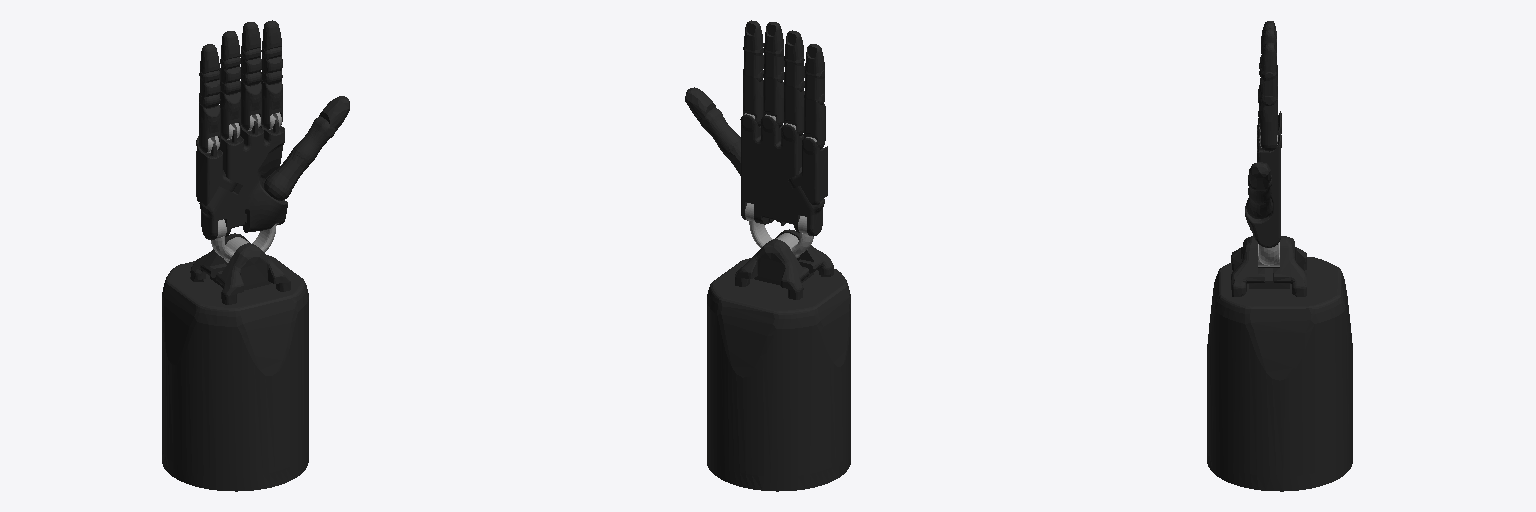
--- Facts derived from the render (not from the file) ---
Views: 3 orthographic renders of the robot side by side, from view 1: azimuth 30°, elevation 25°; view 2: azimuth 150°, elevation 25°; view 3: azimuth 270°, elevation 25°.
Robot: shadowhand_motor — 31 links, 30 joints (24 revolute, 6 fixed); root link world; default pose: all joints at 0.
Visible links, largest first — view 1: rh_forearm, rh_palm, rh_lfmetacarpal, rh_thproximal, rh_wrist, rh_thmiddle, rh_lfproximal, rh_mfproximal, rh_ffproximal, rh_rfproximal, rh_mfmiddle, rh_lfmiddle (+3 smaller); view 2: rh_forearm, rh_palm, rh_lfmetacarpal, rh_wrist, rh_thmiddle, rh_lfproximal, rh_mfproximal, rh_rfproximal, rh_ffproximal, rh_thdistal, rh_mfmiddle, rh_rfmiddle (+2 smaller); view 3: rh_forearm, rh_palm, rh_ffproximal, rh_ffmiddle.
Boxes of the visible links, bbox=[...] form: rh_forearm: bbox=[162, 233, 308, 491]; rh_palm: bbox=[199, 120, 287, 240]; rh_lfmetacarpal: bbox=[196, 136, 237, 205]; rh_thproximal: bbox=[264, 149, 308, 200]; rh_wrist: bbox=[211, 219, 278, 262]; rh_thmiddle: bbox=[293, 116, 335, 164]; rh_lfproximal: bbox=[199, 103, 220, 152]; rh_mfproximal: bbox=[240, 81, 261, 130]; rh_ffproximal: bbox=[261, 81, 282, 129]; rh_rfproximal: bbox=[220, 92, 240, 139]; rh_mfmiddle: bbox=[241, 48, 261, 85]; rh_lfmiddle: bbox=[199, 70, 220, 108]; rh_forearm: bbox=[707, 229, 850, 491]; rh_palm: bbox=[740, 114, 824, 236]; rh_lfmetacarpal: bbox=[788, 138, 827, 204]; rh_wrist: bbox=[745, 203, 813, 257]; rh_thmiddle: bbox=[700, 108, 740, 154]; rh_lfproximal: bbox=[804, 99, 825, 149]; rh_mfproximal: bbox=[763, 77, 783, 127]; rh_rfproximal: bbox=[784, 85, 804, 135]; rh_ffproximal: bbox=[743, 75, 762, 126]; rh_thdistal: bbox=[685, 87, 715, 121]; rh_mfmiddle: bbox=[763, 48, 784, 82]; rh_rfmiddle: bbox=[784, 56, 804, 91]; rh_forearm: bbox=[1207, 236, 1352, 491]; rh_palm: bbox=[1245, 113, 1281, 247]; rh_ffproximal: bbox=[1258, 99, 1277, 151]; rh_ffmiddle: bbox=[1259, 70, 1277, 105].
Bounding box of the posed robot: 0.1784 × 0.1351 × 0.4454 m (x, y, z).
23 mesh visuals loaded from 11 distinct referenced files (11 Collada DAE).

URDF robot description (shadowhand_motor):
<?xml version="1.0" ?>
<!-- =================================================================================== -->
<!-- |    This document was autogenerated by xacro from [local-path]/DUC/RobotArm/src/my_arm/models/shadow_hand/robots/shadowhand_motor.urdf.xacro | -->
<!-- |    EDITING THIS FILE BY HAND IS NOT RECOMMENDED                                 | -->
<!-- =================================================================================== -->
<robot name="shadowhand_motor" xmlns:body="http://playerstage.sourceforge.net/gazebo/xmlschema/#body" xmlns:controller="http://playerstage.sourceforge.net/gazebo/xmlschema/#controller" xmlns:geom="http://playerstage.sourceforge.net/gazebo/xmlschema/#geom" xmlns:interface="http://playerstage.sourceforge.net/gazebo/xmlschema/#interface" xmlns:joint="http://playerstage.sourceforge.net/gazebo/xmlschema/#slider" xmlns:sensor="http://playerstage.sourceforge.net/gazebo/xmlschema/#sensor" xmlns:xacro="http://www.ros.org/wiki/xacro">
    <material name="Blue">
        <color rgba="0.0 0.0 0.8 1.0"/>
    </material>
    <material name="Green">
        <color rgba="0.0 0.8 0.0 1.0"/>
    </material>
    <material name="BiotacGreen">
        <color rgba="0.31 0.85 0.42 1.0"/>
    </material>
    <material name="Grey">
        <color rgba="0.2 0.2 0.2 1.0"/>
    </material>
    <material name="LightGrey">
        <color rgba="0.6 0.6 0.6 1.0"/>
    </material>
    <material name="Red">
        <color rgba="0.8 0.0 0.0 1.0"/>
    </material>
    <material name="White">
        <color rgba="1.0 1.0 1.0 1.0"/>
    </material>
    <gazebo>
        <!-- !NOTEE : MODEL PLUGIN TYPE ONLY -->
        <plugin filename="libgazebo_ros_control.so" name="gazebo_ros_control">
            <robotSimType>sr_gazebo_sim/SrGazeboHWSim</robotSimType>
        </plugin>
        <plugin filename="libgazeboRobotArmController.so" name="gazebo_my_arm_control"> <!-- devel/lib folder -->
            <robotNamespace/>
            <robotSimType>my_arm_gazebo_sim/DefaultRobotHWSim</robotSimType>
            <jointName>rh_world_joint,
                rh_WRJ2,
                rh_WRJ1,

                rh_THJ5,
                rh_THJ4,
                rh_THJ3,
                rh_THJ2,
                rh_THJ1,
                rh_THtip,

                rh_FFJ4,
                rh_FFJ3,
                rh_FFJ2,
                rh_FFJ1,

                rh_MFJ4,
                rh_MFJ3,
                rh_MFJ2,
                rh_MFJ1,

                rh_RFJ4,
                rh_RFJ3,
                rh_RFJ2,
                rh_RFJ1,

                rh_LFJ5,
                rh_LFJ4,
                rh_LFJ3,
                rh_LFJ2,
                rh_LFJ1
            </jointName>
            <updateRate>100.0</updateRate>
            <alwaysOn>true</alwaysOn>
        </plugin>
    </gazebo>
    <!-- hand with cylindrical base drifts in gazebo, attach it to the world -->
    <link name="world"/>
    <joint name="rh_world_joint" type="fixed">
        <parent link="world"/>
        <child link="rh_forearm"/>
        <origin rpy="0.0 0.0 0.0" xyz="0.0 0.0 0.0"/>
    </joint>
    <link name="rh_forearm">
        <inertial>
            <origin rpy="0 0 0" xyz="0 0 0.09"/>
            <mass value="3.0"/>
            <inertia ixx="0.0138" ixy="0.0" ixz="0.0" iyy="0.0138" iyz="0.0" izz="0.00744"/>
        </inertial>
        <visual>
            <origin rpy="0 0 0" xyz="0 0 0"/>
            <geometry name="rh_forearm_visual">
                <mesh filename="package://meshes/shadow_hand/hand/forearm.dae" scale="0.001 0.001 0.001"/>
            </geometry>
            <material name="Grey"/>
        </visual>
        <collision>
            <origin rpy="0 0 0" xyz="0 0 0.092"/>
            <geometry name="rh_forearm_collision">
                <cylinder length="0.184" radius="0.07"/>
            </geometry>
        </collision>
        <!-- wrist mount -->
        <collision>
            <origin rpy="0 0.78 0" xyz="0 -0.01 0.181"/>
            <geometry>
                <box size="0.07 0.07 0.07"/>
            </geometry>
        </collision>
    </link>
    <gazebo reference="rh_forearm">
        <selfCollide>false</selfCollide>
    </gazebo>
    <link name="rh_wrist">
        <inertial>
            <origin rpy="0 0 0" xyz="0 0 0.029"/>
            <mass value="0.1"/>
            <inertia ixx="0.000035" ixy="0.0" ixz="0.0" iyy="0.000064" iyz="0.0" izz="0.0000438"/>
        </inertial>
        <visual>
            <origin rpy="0 0 0" xyz="0 0 0"/>
            <geometry name="rh_wrist_visual">
                <mesh filename="package://meshes/shadow_hand/hand/wrist.dae" scale="0.001 0.001 0.001"/>
            </geometry>
            <material name="LightGrey"/>
        </visual>
        <collision>
            <origin rpy="1.5708 1.5708 0" xyz="0 0 0"/>
            <geometry name="rh_wrist_collision_geom">
                <cylinder length="0.030" radius="0.0135"/>
            </geometry>
        </collision>
        <collision>
            <origin rpy="0 1.5708 0" xyz="-0.026 0 0.034"/>
            <geometry>
                <cylinder length="0.010" radius="0.011"/>
            </geometry>
        </collision>
        <collision>
            <origin rpy="0 1.5708 0" xyz="0.031 0 0.034"/>
            <geometry>
                <cylinder length="0.010" radius="0.011"/>
            </geometry>
        </collision>
        <collision>
            <origin rpy="0 0.7854 0" xyz="-0.021 0 0.011"/>
            <geometry>
                <box size="0.027 0.018 0.010"/>
            </geometry>
        </collision>
        <collision>
            <origin rpy="0 -0.7854 0" xyz="0.026 0 0.010"/>
            <geometry>
                <box size="0.027 0.018 0.010"/>
            </geometry>
        </collision>
    </link>
    <gazebo reference="rh_wrist">
        <material>Gazebo/White</material>
        <selfCollide>false</selfCollide>
    </gazebo>
    <joint name="rh_WRJ2" type="revolute">
        <parent link="rh_forearm"/>
        <child link="rh_wrist"/>
        <origin rpy="0 0 0" xyz="0 -0.010 0.213"/>
        <axis xyz="0 1.0 0"/>
        <limit effort="10" lower="-0.523598775598" upper="0.174532925199" velocity="2.0"/>
        <dynamics damping="0.1"/>
    </joint>
    <gazebo reference="rh_WRJ2">
        <provideFeedback>1</provideFeedback>
        <implicitSpringDamper>1</implicitSpringDamper>
    </gazebo>
    <transmission name="rh_wrist_transmission">
        <type>sr_mechanism_model/SimpleTransmission</type>
        <actuator name="rh_WRJ2">
            <mechanicalReduction>1</mechanicalReduction>
        </actuator>
        <joint name="rh_WRJ2">
            <hardwareInterface>EffortJointInterface</hardwareInterface>
            <hardwareInterface>PositionJointInterface</hardwareInterface>
        </joint>
    </transmission>
    <link name="rh_palm">
        <inertial>
            <origin rpy="0 0 0" xyz="0 0 0.035"/>
            <mass value="0.3"/>
            <inertia ixx="0.0003581" ixy="0.0" ixz="0.0" iyy="0.0005287" iyz="0.0" izz="0.000191"/>
        </inertial>
        <visual>
            <origin rpy="0 0 0" xyz="0 0 0"/>
            <geometry name="rh_palm_visual">
                <mesh filename="package://meshes/shadow_hand/hand/palm.dae" scale="0.001 0.001 0.001"/>
            </geometry>
            <material name="Grey"/>
        </visual>
        <collision>
            <origin rpy="0 0 0" xyz="0.011 0.0085 0.038"/>
            <geometry name="rh_palm_collision_geom">
                <box size="0.062 0.007 0.098"/>
            </geometry>
        </collision>
        <collision>
            <origin rpy="0 0 0" xyz="-0.002 -0.0035 0.038"/>
            <geometry>
                <box size="0.036 0.017 0.098"/>
            </geometry>
        </collision>
        <!-- palm complement below first finger -->
        <collision>
            <origin rpy="0 0 0" xyz="0.029 -0.0035 0.082"/>
            <geometry>
                <box size="0.026 0.017 0.010"/>
            </geometry>
        </collision>
        <collision>
            <origin rpy="0.2 0 0.25" xyz="0.0265 -0.001 0.070"/>
            <geometry>
                <box size="0.026 0.014 0.018"/>
            </geometry>
        </collision>
        <!-- thumb pulp side -->
        <collision>
            <origin rpy="0 0 0" xyz="0.0315 -0.0085 0.001"/>
            <geometry>
                <box size="0.021 0.027 0.024"/>
            </geometry>
        </collision>
        <!-- thumb pulp central -->
        <collision>
            <origin rpy="0 0 -0.48" xyz="0.0125 -0.015 0.009"/>
            <geometry>
                <box size="0.022 0.005 0.040"/>
            </geometry>
        </collision>
        <!-- above middle finger-->
        <collision>
            <origin rpy="0 0 0" xyz="0.011 0 0.089"/>
            <geometry>
                <box size="0.018 0.024 0.004"/>
            </geometry>
        </collision>
        <!-- metacarpal side-->
        <collision>
            <origin rpy="0 0 0" xyz="-0.03 0 0.009"/>
            <geometry>
                <box size="0.020 0.024 0.040"/>
            </geometry>
        </collision>
    </link>
    <joint name="rh_WRJ1" type="revolute">
        <parent link="rh_wrist"/>
        <child link="rh_palm"/>
        <origin rpy="0 0 0" xyz="0 0 0.034"/>
        <axis xyz="1 0 0"/>
        <limit effort="30" lower="-0.698131700798" upper="0.488692190558" velocity="2.0"/>
        <dynamics damping="0.1"/>
    </joint>
    <gazebo reference="rh_WRJ1">
        <provideFeedback>1</provideFeedback>
        <implicitSpringDamper>1</implicitSpringDamper>
    </gazebo>
    <transmission name="rh_palm_transmission">
        <type>sr_mechanism_model/SimpleTransmission</type>
        <actuator name="rh_WRJ1">
            <mechanicalReduction>1</mechanicalReduction>
        </actuator>
        <joint name="rh_WRJ1">
            <hardwareInterface>EffortJointInterface</hardwareInterface>
            <hardwareInterface>PositionJointInterface</hardwareInterface>
        </joint>
    </transmission>
    <!-- prefix can be anything but usually is "r_" or  "l_" for right and left hands distinction -->
    <gazebo reference="rh_palm">
        <sensor name="rh_palm_contact" type="contact">
            <always_on>1</always_on>
            <update_rate>1000.0</update_rate>
            <contact>
                <collision>rh_palm_collision</collision>
                <topic>rh_palm_collision</topic>
            </contact>
            <plugin filename="libgazebo_ros_bumper.so" name="rh_palm_gazebo_ros_bumper_controller">
                <alwaysOn>true</alwaysOn>
                <frameName>rh_palm</frameName>
                <updateRate>100.0</updateRate>
                <bumperTopicName>contacts/rh_palm</bumperTopicName>
            </plugin>
        </sensor>
    </gazebo>
    <link name="rh_ffknuckle">
        <inertial>
            <origin rpy="0 0 0" xyz="0 0 0"/>
            <mass value="0.008"/>
            <inertia ixx="0.00000026" ixy="0.0" ixz="0.0" iyy="0.00000026" iyz="0.0" izz="0.00000032"/>
        </inertial>
        <visual>
            <origin rpy="0 0 0" xyz="0 0 0.0005"/>
            <geometry name="rh_ffknuckle_visual">
                <mesh filename="package://meshes/shadow_hand/hand/knuckle.dae" scale="0.001 0.001 0.001"/>
            </geometry>
            <material name="LightGrey"/>
        </visual>
        <collision>
            <origin rpy="0 1.5708 0" xyz="0 0 0"/>
            <geometry name="rh_ffknuckle_collision_geom">
                <cylinder length="0.014" radius="0.007"/>
            </geometry>
        </collision>
    </link>
    <joint name="rh_FFJ4" type="revolute">
        <parent link="rh_palm"/>
        <child link="rh_ffknuckle"/>
        <!--<origin xyz="0.033 0 0.095" rpy="0 0 0" />-->
        <origin rpy="0 0 0" xyz="0.033 0 0.095"/>
        <axis xyz="0 -1.0 0"/>
        <limit effort="2" lower="-0.349065850399" upper="0.349065850399" velocity="2.0"/>
        <dynamics damping="0.1"/>
    </joint>
    <gazebo reference="rh_FFJ4">
        <provideFeedback>1</provideFeedback>
        <implicitSpringDamper>1</implicitSpringDamper>
    </gazebo>
    <transmission name="rh_ffknuckle_transmission">
        <type>sr_mechanism_model/SimpleTransmission</type>
        <actuator name="rh_FFJ4">
            <mechanicalReduction>1</mechanicalReduction>
        </actuator>
        <joint name="rh_FFJ4">
            <hardwareInterface>EffortJointInterface</hardwareInterface>
            <hardwareInterface>PositionJointInterface</hardwareInterface>
        </joint>
    </transmission>
    <!-- prefix can be anything but usually is "r_" or  "l_" for right and left hands distinction -->
    <gazebo reference="rh_ffknuckle">
        <sensor name="rh_ffknuckle_contact" type="contact">
            <always_on>1</always_on>
            <update_rate>1000.0</update_rate>
            <contact>
                <collision>rh_ffknuckle_collision</collision>
                <topic>rh_ffknuckle_collision</topic>
            </contact>
            <plugin filename="libgazebo_ros_bumper.so" name="rh_ffknuckle_gazebo_ros_bumper_controller">
                <alwaysOn>true</alwaysOn>
                <frameName>rh_ffknuckle</frameName>
                <updateRate>100.0</updateRate>
                <bumperTopicName>contacts/rh_ff/knuckle</bumperTopicName>
            </plugin>
        </sensor>
        <material>Gazebo/Grey</material>
    </gazebo>
    <link name="rh_ffproximal">
        <inertial>
            <mass value="0.030"/>
            <origin xyz="0 0 0.0225"/>
            <inertia ixx="0.0000098" ixy="0.0" ixz="0.0" iyy="0.00001" iyz="0.0" izz="0.0000018"/>
        </inertial>
        <visual>
            <origin rpy="0 0 0" xyz="0 0 0"/>
            <geometry name="rh_ffproximal_visual">
                <mesh filename="package://meshes/shadow_hand/hand/F3.dae" scale="0.001 0.001 0.001"/>
            </geometry>
            <material name="Grey"/>
        </visual>
        <collision>
            <origin rpy="0 0 0" xyz="0 0 0.025"/>
            <geometry name="rh_ffproximal_collision_geom">
                <cylinder length="0.040" radius="0.007"/>
            </geometry>
        </collision>
    </link>
    <joint name="rh_FFJ3" type="revolute">
        <parent link="rh_ffknuckle"/>
        <child link="rh_ffproximal"/>
        <origin rpy="0 0 0" xyz="0 0 0"/>
        <axis xyz="1 0 0"/>
        <limit effort="2" lower="0" upper="1.57079632679" velocity="2.0"/>
        <dynamics damping="0.1"/>
    </joint>
    <gazebo reference="rh_FFJ3">
        <provideFeedback>1</provideFeedback>
        <implicitSpringDamper>1</implicitSpringDamper>
    </gazebo>
    <transmission name="rh_ffproximal_transmission">
        <type>sr_mechanism_model/SimpleTransmission</type>
        <actuator name="rh_FFJ3">
            <mechanicalReduction>1</mechanicalReduction>
        </actuator>
        <joint name="rh_FFJ3">
            <hardwareInterface>EffortJointInterface</hardwareInterface>
            <hardwareInterface>PositionJointInterface</hardwareInterface>
        </joint>
    </transmission>
    <!-- prefix can be anything but usually is "r_" or  "l_" for right and left hands distinction -->
    <gazebo reference="rh_ffproximal">
        <sensor name="rh_ffproximal_contact" type="contact">
            <always_on>1</always_on>
            <update_rate>1000.0</update_rate>
            <contact>
                <collision>rh_ffproximal_collision</collision>
                <topic>rh_ffproximal_collision</topic>
            </contact>
            <plugin filename="libgazebo_ros_bumper.so" name="rh_ffproximal_gazebo_ros_bumper_controller">
                <alwaysOn>true</alwaysOn>
                <frameName>rh_ffproximal</frameName>
                <updateRate>100.0</updateRate>
                <bumperTopicName>contacts/rh_ff/proximal</bumperTopicName>
            </plugin>
        </sensor>
        <selfCollide>true</selfCollide>
    </gazebo>
    <link name="rh_ffmiddle">
        <inertial>
            <origin rpy="0 0 0" xyz="0 0 0.0125"/>
            <mass value="0.017"/>
            <inertia ixx="0.0000026" ixy="0.0" ixz="0.0" iyy="0.0000027" iyz="0.0" izz="0.00000087"/>
        </inertial>
        <visual>
            <origin rpy="0 0 0" xyz="0 0 0"/>
            <geometry name="rh_ffmiddle_visual">
                <mesh filename="package://meshes/shadow_hand/hand/F2.dae" scale="0.001 0.001 0.001"/>
            </geometry>
            <material name="Grey"/>
        </visual>
        <collision>
            <origin rpy="0 0 0" xyz="0 0 0.0125"/>
            <geometry name="rh_ffmiddle_collision_geom">
                <cylinder length="0.025" radius="0.007"/>
            </geometry>
        </collision>
        <collision>
            <origin rpy="0 0 0" xyz="0 0 0.0"/>
            <geometry>
                <sphere radius="0.007"/>
            </geometry>
        </collision>
        <collision>
            <origin rpy="0 0 0" xyz="0 0 0.025"/>
            <geometry>
                <sphere radius="0.007"/>
            </geometry>
        </collision>
    </link>
    <joint name="rh_FFJ2" type="revolute">
        <parent link="rh_ffproximal"/>
        <child link="rh_ffmiddle"/>
        <origin rpy="0 0 0" xyz="0 0 0.045"/>
        <axis xyz="1 0 0"/>
        <limit effort="2" lower="0" upper="1.57079632679" velocity="2.0"/>
        <dynamics damping="0.1"/>
    </joint>
    <gazebo reference="rh_FFJ2">
        <provideFeedback>1</provideFeedback>
        <implicitSpringDamper>1</implicitSpringDamper>
    </gazebo>
    <transmission name="rh_ffmiddle_transmission">
        <type>sr_mechanism_model/J0Transmission</type>
        <actuator name="rh_FFJ0">
            <mechanicalReduction>1</mechanicalReduction>
        </actuator>
        <joint name="rh_FFJ1">
            <hardwareInterface>EffortJointInterface</hardwareInterface>
            <hardwareInterface>PositionJointInterface</hardwareInterface>
        </joint>
        <secondJoint name="rh_FFJ2"/>
    </transmission>
    <!-- prefix can be anything but usually is "r_" or  "l_" for right and left hands distinction -->
    <gazebo reference="rh_ffmiddle">
        <sensor name="rh_ffmiddle_contact" type="contact">
            <always_on>1</always_on>
            <update_rate>1000.0</update_rate>
            <contact>
                <collision>rh_ffmiddle_collision</collision>
                <topic>rh_ffmiddle_collision</topic>
            </contact>
            <plugin filename="libgazebo_ros_bumper.so" name="rh_ffproximal_gazebo_ros_bumper_controller">
                <alwaysOn>true</alwaysOn>
                <frameName>rh_ffmiddle</frameName>
                <updateRate>100.0</updateRate>
                <bumperTopicName>contacts/rh_ff/middle</bumperTopicName>
            </plugin>
        </sensor>
        <selfCollide>true</selfCollide>
    </gazebo>
    <!-- Distal  -->
    <link name="rh_ffdistal">
        <inertial>
            <mass value="0.012"/>
            <origin xyz="0 0 0.012"/>
            <inertia ixx="0.00000094" ixy="0.0" ixz="0.0" iyy="0.0000011" iyz="0.0" izz="0.00000053"/>
        </inertial>
        <visual>
            <origin rpy="0 0 0" xyz="0 0 0"/>
            <geometry name="rh_ffdistal_visual">
                <!-- Standard distal  -->
                <mesh filename="package://meshes/shadow_hand/hand/F1.dae" scale="0.001 0.001 0.001"/>
            </geometry>
            <material name="Grey"/>
        </visual>
        <collision>
            <origin rpy="0 0 0" xyz="0 0 0"/>
            <geometry name="rh_ffdistal_collision_geom">
                <!-- Standard distal  -->
                <mesh filename="package://meshes/shadow_hand/hand/F1.dae" scale="0.001 0.001 0.001"/>
            </geometry>
        </collision>
    </link>
    <joint name="rh_FFJ1" type="revolute">
        <parent link="rh_ffmiddle"/>
        <child link="rh_ffdistal"/>
        <origin rpy="0 0 0" xyz="0 0 0.025"/>
        <axis xyz="1 0 0"/>
        <!-- standard distal joint -->
        <limit effort="2" lower="0" upper="1.57079632679" velocity="2.0"/>
        <dynamics damping="0.1"/>
    </joint>
    <gazebo reference="rh_FFJ1">
        <provideFeedback>1</provideFeedback>
        <implicitSpringDamper>1</implicitSpringDamper>
    </gazebo>
    <link name="rh_fftip">
        <inertial>
            <mass value="0.001"/>
            <inertia ixx="0.0" ixy="0.0" ixz="0.0" iyy="0.0" iyz="0.0" izz="0.0"/>
        </inertial>
    </link>
    <joint name="rh_FFtip" type="fixed">
        <parent link="rh_ffdistal"/>
        <child link="rh_fftip"/>
        <origin rpy="0 0 0" xyz="0 0 0.026"/>
    </joint>
    <!-- prefix can be anything but usually is "r_" or  "l_" for right and left hands distinction -->
    <gazebo reference="rh_ffdistal">
        <sensor name="rh_ffdistal_contact" type="contact">
            <always_on>1</always_on>
            <update_rate>1000.0</update_rate>
            <contact>
                <collision>rh_ffdistal_collision</collision>
                <topic>rh_ffdistal_collision</topic>
            </contact>
            <plugin filename="libgazebo_ros_bumper.so" name="rh_ffdistal_gazebo_ros_bumper_controller">
                <alwaysOn>true</alwaysOn>
                <frameName>rh_ffdistal</frameName>
                <updateRate>100.0</updateRate>
                <bumperTopicName>contacts/rh_ff/distal</bumperTopicName>
            </plugin>
        </sensor>
        <mu1 value="500.0"/>
        <mu2 value="500.0"/>
        <kp value="10000000.0"/>
        <kd value="1.0"/>
        <selfCollide>true</selfCollide>
    </gazebo>
    <link name="rh_mfknuckle">
        <inertial>
            <origin rpy="0 0 0" xyz="0 0 0"/>
            <mass value="0.008"/>
            <inertia ixx="0.00000026" ixy="0.0" ixz="0.0" iyy="0.00000026" iyz="0.0" izz="0.00000032"/>
        </inertial>
        <visual>
            <origin rpy="0 0 0" xyz="0 0 0.0005"/>
            <geometry name="rh_mfknuckle_visual">
                <mesh filename="package://meshes/shadow_hand/hand/knuckle.dae" scale="0.001 0.001 0.001"/>
            </geometry>
            <material name="LightGrey"/>
        </visual>
        <collision>
            <origin rpy="0 1.5708 0" xyz="0 0 0"/>
            <geometry name="rh_mfknuckle_collision_geom">
                <cylinder length="0.014" radius="0.007"/>
            </geometry>
        </collision>
    </link>
    <joint name="rh_MFJ4" type="revolute">
        <parent link="rh_palm"/>
        <child link="rh_mfknuckle"/>
        <!--<origin xyz="0.033 0 0.095" rpy="0 0 0" />-->
        <origin rpy="0 0 0" xyz="0.011 0 0.099"/>
        <axis xyz="0 -1.0 0"/>
        <limit effort="2" lower="-0.349065850399" upper="0.349065850399" velocity="2.0"/>
        <dynamics damping="0.1"/>
    </joint>
    <gazebo reference="rh_MFJ4">
        <provideFeedback>1</provideFeedback>
        <implicitSpringDamper>1</implicitSpringDamper>
    </gazebo>
    <transmission name="rh_mfknuckle_transmission">
        <type>sr_mechanism_model/SimpleTransmission</type>
        <actuator name="rh_MFJ4">
            <mechanicalReduction>1</mechanicalReduction>
        </actuator>
        <joint name="rh_MFJ4">
            <hardwareInterface>EffortJointInterface</hardwareInterface>
            <hardwareInterface>PositionJointInterface</hardwareInterface>
        </joint>
    </transmission>
    <!-- prefix can be anything but usually is "r_" or  "l_" for right and left hands distinction -->
    <gazebo reference="rh_mfknuckle">
        <sensor name="rh_mfknuckle_contact" type="contact">
            <always_on>1</always_on>
            <update_rate>1000.0</update_rate>
            <contact>
                <collision>rh_mfknuckle_collision</collision>
                <topic>rh_mfknuckle_collision</topic>
            </contact>
            <plugin filename="libgazebo_ros_bumper.so" name="rh_mfknuckle_gazebo_ros_bumper_controller">
                <alwaysOn>true</alwaysOn>
                <frameName>rh_mfknuckle</frameName>
                <updateRate>100.0</updateRate>
                <bumperTopicName>contacts/rh_mf/knuckle</bumperTopicName>
            </plugin>
        </sensor>
        <material>Gazebo/Grey</material>
    </gazebo>
    <link name="rh_mfproximal">
        <inertial>
            <mass value="0.030"/>
            <origin xyz="0 0 0.0225"/>
            <inertia ixx="0.0000098" ixy="0.0" ixz="0.0" iyy="0.00001" iyz="0.0" izz="0.0000018"/>
        </inertial>
        <visual>
            <origin rpy="0 0 0" xyz="0 0 0"/>
            <geometry name="rh_mfproximal_visual">
                <mesh filename="package://meshes/shadow_hand/hand/F3.dae" scale="0.001 0.001 0.001"/>
            </geometry>
            <material name="Grey"/>
        </visual>
        <collision>
            <origin rpy="0 0 0" xyz="0 0 0.025"/>
            <geometry name="rh_mfproximal_collision_geom">
                <cylinder length="0.040" radius="0.007"/>
            </geometry>
        </collision>
    </link>
    <joint name="rh_MFJ3" type="revolute">
        <parent link="rh_mfknuckle"/>
        <child link="rh_mfproximal"/>
        <origin rpy="0 0 0" xyz="0 0 0"/>
        <axis xyz="1 0 0"/>
        <limit effort="2" lower="0" upper="1.57079632679" velocity="2.0"/>
        <dynamics damping="0.1"/>
    </joint>
    <gazebo reference="rh_MFJ3">
        <provideFeedback>1</provideFeedback>
        <implicitSpringDamper>1</implicitSpringDamper>
    </gazebo>
    <transmission name="rh_mfproximal_transmission">
        <type>sr_mechanism_model/SimpleTransmission</type>
        <actuator name="rh_MFJ3">
            <mechanicalReduction>1</mechanicalReduction>
        </actuator>
        <joint name="rh_MFJ3">
            <hardwareInterface>EffortJointInterface</hardwareInterface>
            <hardwareInterface>PositionJointInterface</hardwareInterface>
        </joint>
    </transmission>
    <!-- prefix can be anything but usually is "r_" or  "l_" for right and left hands distinction -->
    <gazebo reference="rh_mfproximal">
        <sensor name="rh_mfproximal_contact" type="contact">
            <always_on>1</always_on>
            <update_rate>1000.0</update_rate>
            <contact>
                <collision>rh_mfproximal_collision</collision>
                <topic>rh_mfproximal_collision</topic>
            </contact>
            <plugin filename="libgazebo_ros_bumper.so" name="rh_mfproximal_gazebo_ros_bumper_controller">
                <alwaysOn>true</alwaysOn>
                <frameName>rh_mfproximal</frameName>
                <updateRate>100.0</updateRate>
                <bumperTopicName>contacts/rh_mf/proximal</bumperTopicName>
            </plugin>
        </sensor>
        <selfCollide>true</selfCollide>
    </gazebo>
    <link name="rh_mfmiddle">
        <inertial>
            <origin rpy="0 0 0" xyz="0 0 0.0125"/>
            <mass value="0.017"/>
            <inertia ixx="0.0000026" ixy="0.0" ixz="0.0" iyy="0.0000027" iyz="0.0" izz="0.00000087"/>
        </inertial>
        <visual>
            <origin rpy="0 0 0" xyz="0 0 0"/>
            <geometry name="rh_mfmiddle_visual">
                <mesh filename="package://meshes/shadow_hand/hand/F2.dae" scale="0.001 0.001 0.001"/>
            </geometry>
            <material name="Grey"/>
        </visual>
        <collision>
            <origin rpy="0 0 0" xyz="0 0 0.0125"/>
            <geometry name="rh_mfmiddle_collision_geom">
                <cylinder length="0.025" radius="0.007"/>
            </geometry>
        </collision>
        <collision>
            <origin rpy="0 0 0" xyz="0 0 0.0"/>
            <geometry>
                <sphere radius="0.007"/>
            </geometry>
        </collision>
        <collision>
            <origin rpy="0 0 0" xyz="0 0 0.025"/>
            <geometry>
                <sphere radius="0.007"/>
            </geometry>
        </collision>
    </link>
    <joint name="rh_MFJ2" type="revolute">
        <parent link="rh_mfproximal"/>
        <child link="rh_mfmiddle"/>
        <origin rpy="0 0 0" xyz="0 0 0.045"/>
        <axis xyz="1 0 0"/>
        <limit effort="2" lower="0" upper="1.57079632679" velocity="2.0"/>
        <dynamics damping="0.1"/>
    </joint>
    <gazebo reference="rh_MFJ2">
        <provideFeedback>1</provideFeedback>
        <implicitSpringDamper>1</implicitSpringDamper>
    </gazebo>
    <transmission name="rh_mfmiddle_transmission">
        <type>sr_mechanism_model/J0Transmission</type>
        <actuator name="rh_MFJ0">
            <mechanicalReduction>1</mechanicalReduction>
        </actuator>
        <joint name="rh_MFJ1">
            <hardwareInterface>EffortJointInterface</hardwareInterface>
            <hardwareInterface>PositionJointInterface</hardwareInterface>
        </joint>
        <secondJoint name="rh_MFJ2"/>
    </transmission>
    <!-- prefix can be anything but usually is "r_" or  "l_" for right and left hands distinction -->
    <gazebo reference="rh_mfmiddle">
        <sensor name="rh_mfmiddle_contact" type="contact">
            <always_on>1</always_on>
            <update_rate>1000.0</update_rate>
            <contact>
                <collision>rh_mfmiddle_collision</collision>
                <topic>rh_mfmiddle_collision</topic>
            </contact>
            <plugin filename="libgazebo_ros_bumper.so" name="rh_mfproximal_gazebo_ros_bumper_controller">
                <alwaysOn>true</alwaysOn>
                <frameName>rh_mfmiddle</frameName>
                <updateRate>100.0</updateRate>
                <bumperTopicName>contacts/rh_mf/middle</bumperTopicName>
            </plugin>
        </sensor>
        <selfCollide>true</selfCollide>
    </gazebo>
    <!-- Distal  -->
    <link name="rh_mfdistal">
        <inertial>
            <mass value="0.012"/>
            <origin xyz="0 0 0.012"/>
            <inertia ixx="0.00000094" ixy="0.0" ixz="0.0" iyy="0.0000011" iyz="0.0" izz="0.00000053"/>
        </inertial>
        <visual>
            <origin rpy="0 0 0" xyz="0 0 0"/>
            <geometry name="rh_mfdistal_visual">
                <!-- Standard distal  -->
                <mesh filename="package://meshes/shadow_hand/hand/F1.dae" scale="0.001 0.001 0.001"/>
            </geometry>
            <material name="Grey"/>
        </visual>
        <collision>
            <origin rpy="0 0 0" xyz="0 0 0"/>
            <geometry name="rh_mfdistal_collision_geom">
                <!-- Standard distal  -->
                <mesh filename="package://meshes/shadow_hand/hand/F1.dae" scale="0.001 0.001 0.001"/>
            </geometry>
        </collision>
    </link>
    <joint name="rh_MFJ1" type="revolute">
        <parent link="rh_mfmiddle"/>
        <child link="rh_mfdistal"/>
        <origin rpy="0 0 0" xyz="0 0 0.025"/>
        <axis xyz="1 0 0"/>
        <!-- standard distal joint -->
        <limit effort="2" lower="0" upper="1.57079632679" velocity="2.0"/>
        <dynamics damping="0.1"/>
    </joint>
    <gazebo reference="rh_MFJ1">
        <provideFeedback>1</provideFeedback>
        <implicitSpringDamper>1</implicitSpringDamper>
    </gazebo>
    <link name="rh_mftip">
        <inertial>
            <mass value="0.001"/>
            <inertia ixx="0.0" ixy="0.0" ixz="0.0" iyy="0.0" iyz="0.0" izz="0.0"/>
        </inertial>
    </link>
    <joint name="rh_MFtip" type="fixed">
        <parent link="rh_mfdistal"/>
        <child link="rh_mftip"/>
        <origin rpy="0 0 0" xyz="0 0 0.026"/>
    </joint>
    <!-- prefix can be anything but usually is "r_" or  "l_" for right and left hands distinction -->
    <gazebo reference="rh_mfdistal">
        <sensor name="rh_mfdistal_contact" type="contact">
            <always_on>1</always_on>
            <update_rate>1000.0</update_rate>
            <contact>
                <collision>rh_mfdistal_collision</collision>
                <topic>rh_mfdistal_collision</topic>
            </contact>
            <plugin filename="libgazebo_ros_bumper.so" name="rh_mfdistal_gazebo_ros_bumper_controller">
                <alwaysOn>true</alwaysOn>
                <frameName>rh_mfdistal</frameName>
                <updateRate>100.0</updateRate>
                <bumperTopicName>contacts/rh_mf/distal</bumperTopicName>
            </plugin>
        </sensor>
        <mu1 value="500.0"/>
        <mu2 value="500.0"/>
        <kp value="10000000.0"/>
        <kd value="1.0"/>
        <selfCollide>true</selfCollide>
    </gazebo>
    <link name="rh_rfknuckle">
        <inertial>
            <origin rpy="0 0 0" xyz="0 0 0"/>
            <mass value="0.008"/>
            <inertia ixx="0.00000026" ixy="0.0" ixz="0.0" iyy="0.00000026" iyz="0.0" izz="0.00000032"/>
        </inertial>
        <visual>
            <origin rpy="0 0 0" xyz="0 0 0.0005"/>
            <geometry name="rh_rfknuckle_visual">
                <mesh filename="package://meshes/shadow_hand/hand/knuckle.dae" scale="0.001 0.001 0.001"/>
            </geometry>
            <material name="LightGrey"/>
        </visual>
        <collision>
            <origin rpy="0 1.5708 0" xyz="0 0 0"/>
            <geometry name="rh_rfknuckle_collision_geom">
                <cylinder length="0.014" radius="0.007"/>
            </geometry>
        </collision>
    </link>
    <joint name="rh_RFJ4" type="revolute">
        <parent link="rh_palm"/>
        <child link="rh_rfknuckle"/>
        <!--<origin xyz="0.033 0 0.095" rpy="0 0 0" />-->
        <origin rpy="0 0 0" xyz="-0.011 0 0.095"/>
        <axis xyz="0 1.0 0"/>
        <limit effort="2" lower="-0.349065850399" upper="0.349065850399" velocity="2.0"/>
        <dynamics damping="0.1"/>
    </joint>
    <gazebo reference="rh_RFJ4">
        <provideFeedback>1</provideFeedback>
        <implicitSpringDamper>1</implicitSpringDamper>
    </gazebo>
    <transmission name="rh_rfknuckle_transmission">
        <type>sr_mechanism_model/SimpleTransmission</type>
        <actuator name="rh_RFJ4">
            <mechanicalReduction>1</mechanicalReduction>
        </actuator>
        <joint name="rh_RFJ4">
            <hardwareInterface>EffortJointInterface</hardwareInterface>
            <hardwareInterface>PositionJointInterface</hardwareInterface>
        </joint>
    </transmission>
    <!-- prefix can be anything but usually is "r_" or  "l_" for right and left hands distinction -->
    <gazebo reference="rh_rfknuckle">
        <sensor name="rh_rfknuckle_contact" type="contact">
            <always_on>1</always_on>
            <update_rate>1000.0</update_rate>
            <contact>
                <collision>rh_rfknuckle_collision</collision>
                <topic>rh_rfknuckle_collision</topic>
            </contact>
            <plugin filename="libgazebo_ros_bumper.so" name="rh_rfknuckle_gazebo_ros_bumper_controller">
                <alwaysOn>true</alwaysOn>
                <frameName>rh_rfknuckle</frameName>
                <updateRate>100.0</updateRate>
                <bumperTopicName>contacts/rh_rf/knuckle</bumperTopicName>
            </plugin>
        </sensor>
        <material>Gazebo/Grey</material>
    </gazebo>
    <link name="rh_rfproximal">
        <inertial>
            <mass value="0.030"/>
            <origin xyz="0 0 0.0225"/>
            <inertia ixx="0.0000098" ixy="0.0" ixz="0.0" iyy="0.00001" iyz="0.0" izz="0.0000018"/>
        </inertial>
        <visual>
            <origin rpy="0 0 0" xyz="0 0 0"/>
            <geometry name="rh_rfproximal_visual">
                <mesh filename="package://meshes/shadow_hand/hand/F3.dae" scale="0.001 0.001 0.001"/>
            </geometry>
            <material name="Grey"/>
        </visual>
        <collision>
            <origin rpy="0 0 0" xyz="0 0 0.025"/>
            <geometry name="rh_rfproximal_collision_geom">
                <cylinder length="0.040" radius="0.007"/>
            </geometry>
        </collision>
    </link>
    <joint name="rh_RFJ3" type="revolute">
        <parent link="rh_rfknuckle"/>
        <child link="rh_rfproximal"/>
        <origin rpy="0 0 0" xyz="0 0 0"/>
        <axis xyz="1 0 0"/>
        <limit effort="2" lower="0" upper="1.57079632679" velocity="2.0"/>
        <dynamics damping="0.1"/>
    </joint>
    <gazebo reference="rh_RFJ3">
        <provideFeedback>1</provideFeedback>
        <implicitSpringDamper>1</implicitSpringDamper>
    </gazebo>
    <transmission name="rh_rfproximal_transmission">
        <type>sr_mechanism_model/SimpleTransmission</type>
        <actuator name="rh_RFJ3">
            <mechanicalReduction>1</mechanicalReduction>
        </actuator>
        <joint name="rh_RFJ3">
            <hardwareInterface>EffortJointInterface</hardwareInterface>
            <hardwareInterface>PositionJointInterface</hardwareInterface>
        </joint>
    </transmission>
    <!-- prefix can be anything but usually is "r_" or  "l_" for right and left hands distinction -->
    <gazebo reference="rh_rfproximal">
        <sensor name="rh_rfproximal_contact" type="contact">
            <always_on>1</always_on>
            <update_rate>1000.0</update_rate>
            <contact>
                <collision>rh_rfproximal_collision</collision>
                <topic>rh_rfproximal_collision</topic>
            </contact>
            <plugin filename="libgazebo_ros_bumper.so" name="rh_rfproximal_gazebo_ros_bumper_controller">
                <alwaysOn>true</alwaysOn>
                <frameName>rh_rfproximal</frameName>
                <updateRate>100.0</updateRate>
                <bumperTopicName>contacts/rh_rf/proximal</bumperTopicName>
            </plugin>
        </sensor>
        <selfCollide>true</selfCollide>
    </gazebo>
    <link name="rh_rfmiddle">
        <inertial>
            <origin rpy="0 0 0" xyz="0 0 0.0125"/>
            <mass value="0.017"/>
            <inertia ixx="0.0000026" ixy="0.0" ixz="0.0" iyy="0.0000027" iyz="0.0" izz="0.00000087"/>
        </inertial>
        <visual>
            <origin rpy="0 0 0" xyz="0 0 0"/>
            <geometry name="rh_rfmiddle_visual">
                <mesh filename="package://meshes/shadow_hand/hand/F2.dae" scale="0.001 0.001 0.001"/>
            </geometry>
            <material name="Grey"/>
        </visual>
        <collision>
            <origin rpy="0 0 0" xyz="0 0 0.0125"/>
            <geometry name="rh_rfmiddle_collision_geom">
                <cylinder length="0.025" radius="0.007"/>
            </geometry>
        </collision>
        <collision>
            <origin rpy="0 0 0" xyz="0 0 0.0"/>
            <geometry>
                <sphere radius="0.007"/>
            </geometry>
        </collision>
        <collision>
            <origin rpy="0 0 0" xyz="0 0 0.025"/>
            <geometry>
                <sphere radius="0.007"/>
            </geometry>
        </collision>
    </link>
    <joint name="rh_RFJ2" type="revolute">
        <parent link="rh_rfproximal"/>
        <child link="rh_rfmiddle"/>
        <origin rpy="0 0 0" xyz="0 0 0.045"/>
        <axis xyz="1 0 0"/>
        <limit effort="2" lower="0" upper="1.57079632679" velocity="2.0"/>
        <dynamics damping="0.1"/>
    </joint>
    <gazebo reference="rh_RFJ2">
        <provideFeedback>1</provideFeedback>
        <implicitSpringDamper>1</implicitSpringDamper>
    </gazebo>
    <transmission name="rh_rfmiddle_transmission">
        <type>sr_mechanism_model/J0Transmission</type>
        <actuator name="rh_RFJ0">
            <mechanicalReduction>1</mechanicalReduction>
        </actuator>
        <joint name="rh_RFJ1">
            <hardwareInterface>EffortJointInterface</hardwareInterface>
            <hardwareInterface>PositionJointInterface</hardwareInterface>
        </joint>
        <secondJoint name="rh_RFJ2"/>
    </transmission>
    <!-- prefix can be anything but usually is "r_" or  "l_" for right and left hands distinction -->
    <gazebo reference="rh_rfmiddle">
        <sensor name="rh_rfmiddle_contact" type="contact">
            <always_on>1</always_on>
            <update_rate>1000.0</update_rate>
            <contact>
                <collision>rh_rfmiddle_collision</collision>
                <topic>rh_rfmiddle_collision</topic>
            </contact>
            <plugin filename="libgazebo_ros_bumper.so" name="rh_rfproximal_gazebo_ros_bumper_controller">
                <alwaysOn>true</alwaysOn>
                <frameName>rh_rfmiddle</frameName>
                <updateRate>100.0</updateRate>
                <bumperTopicName>contacts/rh_rf/middle</bumperTopicName>
            </plugin>
        </sensor>
        <selfCollide>true</selfCollide>
    </gazebo>
    <!-- Distal  -->
    <link name="rh_rfdistal">
        <inertial>
            <mass value="0.012"/>
            <origin xyz="0 0 0.012"/>
            <inertia ixx="0.00000094" ixy="0.0" ixz="0.0" iyy="0.0000011" iyz="0.0" izz="0.00000053"/>
        </inertial>
        <visual>
            <origin rpy="0 0 0" xyz="0 0 0"/>
            <geometry name="rh_rfdistal_visual">
                <!-- Standard distal  -->
                <mesh filename="package://meshes/shadow_hand/hand/F1.dae" scale="0.001 0.001 0.001"/>
            </geometry>
            <material name="Grey"/>
        </visual>
        <collision>
            <origin rpy="0 0 0" xyz="0 0 0"/>
            <geometry name="rh_rfdistal_collision_geom">
                <!-- Standard distal  -->
                <mesh filename="package://meshes/shadow_hand/hand/F1.dae" scale="0.001 0.001 0.001"/>
            </geometry>
        </collision>
    </link>
    <joint name="rh_RFJ1" type="revolute">
        <parent link="rh_rfmiddle"/>
        <child link="rh_rfdistal"/>
        <origin rpy="0 0 0" xyz="0 0 0.025"/>
        <axis xyz="1 0 0"/>
        <!-- standard distal joint -->
        <limit effort="2" lower="0" upper="1.57079632679" velocity="2.0"/>
        <dynamics damping="0.1"/>
    </joint>
    <gazebo reference="rh_RFJ1">
        <provideFeedback>1</provideFeedback>
        <implicitSpringDamper>1</implicitSpringDamper>
    </gazebo>
    <link name="rh_rftip">
        <inertial>
            <mass value="0.001"/>
            <inertia ixx="0.0" ixy="0.0" ixz="0.0" iyy="0.0" iyz="0.0" izz="0.0"/>
        </inertial>
    </link>
    <joint name="rh_RFtip" type="fixed">
        <parent link="rh_rfdistal"/>
        <child link="rh_rftip"/>
        <origin rpy="0 0 0" xyz="0 0 0.026"/>
    </joint>
    <!-- prefix can be anything but usually is "r_" or  "l_" for right and left hands distinction -->
    <gazebo reference="rh_rfdistal">
        <sensor name="rh_rfdistal_contact" type="contact">
            <always_on>1</always_on>
            <update_rate>1000.0</update_rate>
            <contact>
                <collision>rh_rfdistal_collision</collision>
                <topic>rh_rfdistal_collision</topic>
            </contact>
            <plugin filename="libgazebo_ros_bumper.so" name="rh_rfdistal_gazebo_ros_bumper_controller">
                <alwaysOn>true</alwaysOn>
                <frameName>rh_rfdistal</frameName>
                <updateRate>100.0</updateRate>
                <bumperTopicName>contacts/rh_rf/distal</bumperTopicName>
            </plugin>
        </sensor>
        <mu1 value="500.0"/>
        <mu2 value="500.0"/>
        <kp value="10000000.0"/>
        <kd value="1.0"/>
        <selfCollide>true</selfCollide>
    </gazebo>
    <link name="rh_lfmetacarpal">
        <inertial>
            <origin rpy="0 0 0" xyz="0 0 0.04"/>
            <mass value="0.030"/>
            <inertia ixx="0.0000145" ixy="0.0" ixz="0.0" iyy="0.00001638" iyz="0.0" izz="0.000004272"/>
        </inertial>
        <visual>
            <origin rpy="0 0 0" xyz="0 0 0"/>
            <geometry name="rh_lfmetacarpal_visual">
                <mesh filename="package://meshes/shadow_hand/hand/lfmetacarpal.dae" scale="0.001 0.001 0.001"/>
            </geometry>
            <material name="Grey"/>
        </visual>
        <collision>
            <origin rpy="0 0 0" xyz="0 0 0.038"/>
            <geometry name="rh_lfmetacarpal_collision_geom">
                <box size="0.018 0.024 0.040"/>
            </geometry>
        </collision>
    </link>
    <joint name="rh_LFJ5" type="revolute">
        <parent link="rh_palm"/>
        <child link="rh_lfmetacarpal"/>
        <origin rpy="0 0 0" xyz="-0.033 0 0.02071"/>
        <axis xyz="0.573576436 0 0.819152044"/>
        <limit effort="2" lower="0" upper="0.785398163397" velocity="2.0"/>
        <dynamics damping="0.1"/>
    </joint>
    <gazebo reference="rh_LFJ5">
        <provideFeedback>1</provideFeedback>
        <implicitSpringDamper>1</implicitSpringDamper>
    </gazebo>
    <transmission name="rh_lfmetacarpal_transmission">
        <type>sr_mechanism_model/SimpleTransmission</type>
        <actuator name="rh_LFJ5">
            <mechanicalReduction>1</mechanicalReduction>
        </actuator>
        <joint name="rh_LFJ5">
            <hardwareInterface>EffortJointInterface</hardwareInterface>
            <hardwareInterface>PositionJointInterface</hardwareInterface>
        </joint>
    </transmission>
    <!-- prefix can be anything but usually is "r_" or  "l_" for right and left hands distinction -->
    <gazebo reference="rh_lfmetacarpal">
        <sensor name="rh_lfmetacarpal_contact" type="contact">
            <always_on>1</always_on>
            <update_rate>1000.0</update_rate>
            <contact>
                <collision>rh_lfmetacarpal_collision</collision>
                <topic>rh_lfmetacarpal_collision</topic>
            </contact>
            <plugin filename="libgazebo_ros_bumper.so" name="rh_lfmetacarpal_gazebo_ros_bumper_controller">
                <alwaysOn>true</alwaysOn>
                <frameName>rh_lfmetacarpal</frameName>
                <updateRate>100.0</updateRate>
                <bumperTopicName>contacts/rh_lf/metacarpal</bumperTopicName>
            </plugin>
        </sensor>
        <selfCollide>true</selfCollide>
    </gazebo>
    <link name="rh_lfknuckle">
        <inertial>
            <origin rpy="0 0 0" xyz="0 0 0"/>
            <mass value="0.008"/>
            <inertia ixx="0.00000026" ixy="0.0" ixz="0.0" iyy="0.00000026" iyz="0.0" izz="0.00000032"/>
        </inertial>
        <visual>
            <origin rpy="0 0 0" xyz="0 0 0.0005"/>
            <geometry name="rh_lfknuckle_visual">
                <mesh filename="package://meshes/shadow_hand/hand/knuckle.dae" scale="0.001 0.001 0.001"/>
            </geometry>
            <material name="LightGrey"/>
        </visual>
        <collision>
            <origin rpy="0 1.5708 0" xyz="0 0 0"/>
            <geometry name="rh_lfknuckle_collision_geom">
                <cylinder length="0.014" radius="0.007"/>
            </geometry>
        </collision>
    </link>
    <joint name="rh_LFJ4" type="revolute">
        <parent link="rh_lfmetacarpal"/>
        <child link="rh_lfknuckle"/>
        <!--<origin xyz="0.033 0 0.095" rpy="0 0 0" />-->
        <origin rpy="0 0 0" xyz="0 0 0.06579"/>
        <axis xyz="0 1.0 0"/>
        <limit effort="2" lower="-0.349065850399" upper="0.349065850399" velocity="2.0"/>
        <dynamics damping="0.1"/>
    </joint>
    <gazebo reference="rh_LFJ4">
        <provideFeedback>1</provideFeedback>
        <implicitSpringDamper>1</implicitSpringDamper>
    </gazebo>
    <transmission name="rh_lfknuckle_transmission">
        <type>sr_mechanism_model/SimpleTransmission</type>
        <actuator name="rh_LFJ4">
            <mechanicalReduction>1</mechanicalReduction>
        </actuator>
        <joint name="rh_LFJ4">
            <hardwareInterface>EffortJointInterface</hardwareInterface>
            <hardwareInterface>PositionJointInterface</hardwareInterface>
        </joint>
    </transmission>
    <!-- prefix can be anything but usually is "r_" or  "l_" for right and left hands distinction -->
    <gazebo reference="rh_lfknuckle">
        <sensor name="rh_lfknuckle_contact" type="contact">
            <always_on>1</always_on>
            <update_rate>1000.0</update_rate>
            <contact>
                <collision>rh_lfknuckle_collision</collision>
                <topic>rh_lfknuckle_collision</topic>
            </contact>
            <plugin filename="libgazebo_ros_bumper.so" name="rh_lfknuckle_gazebo_ros_bumper_controller">
                <alwaysOn>true</alwaysOn>
                <frameName>rh_lfknuckle</frameName>
                <updateRate>100.0</updateRate>
                <bumperTopicName>contacts/rh_lf/knuckle</bumperTopicName>
            </plugin>
        </sensor>
        <material>Gazebo/Grey</material>
    </gazebo>
    <link name="rh_lfproximal">
        <inertial>
            <mass value="0.030"/>
            <origin xyz="0 0 0.0225"/>
            <inertia ixx="0.0000098" ixy="0.0" ixz="0.0" iyy="0.00001" iyz="0.0" izz="0.0000018"/>
        </inertial>
        <visual>
            <origin rpy="0 0 0" xyz="0 0 0"/>
            <geometry name="rh_lfproximal_visual">
                <mesh filename="package://meshes/shadow_hand/hand/F3.dae" scale="0.001 0.001 0.001"/>
            </geometry>
            <material name="Grey"/>
        </visual>
        <collision>
            <origin rpy="0 0 0" xyz="0 0 0.025"/>
            <geometry name="rh_lfproximal_collision_geom">
                <cylinder length="0.040" radius="0.007"/>
            </geometry>
        </collision>
    </link>
    <joint name="rh_LFJ3" type="revolute">
        <parent link="rh_lfknuckle"/>
        <child link="rh_lfproximal"/>
        <origin rpy="0 0 0" xyz="0 0 0"/>
        <axis xyz="1 0 0"/>
        <limit effort="2" lower="0" upper="1.57079632679" velocity="2.0"/>
        <dynamics damping="0.1"/>
    </joint>
    <gazebo reference="rh_LFJ3">
        <provideFeedback>1</provideFeedback>
        <implicitSpringDamper>1</implicitSpringDamper>
    </gazebo>
    <transmission name="rh_lfproximal_transmission">
        <type>sr_mechanism_model/SimpleTransmission</type>
        <actuator name="rh_LFJ3">
            <mechanicalReduction>1</mechanicalReduction>
        </actuator>
        <joint name="rh_LFJ3">
            <hardwareInterface>EffortJointInterface</hardwareInterface>
            <hardwareInterface>PositionJointInterface</hardwareInterface>
        </joint>
    </transmission>
    <!-- prefix can be anything but usually is "r_" or  "l_" for right and left hands distinction -->
    <gazebo reference="rh_lfproximal">
        <sensor name="rh_lfproximal_contact" type="contact">
            <always_on>1</always_on>
            <update_rate>1000.0</update_rate>
            <contact>
                <collision>rh_lfproximal_collision</collision>
                <topic>rh_lfproximal_collision</topic>
            </contact>
            <plugin filename="libgazebo_ros_bumper.so" name="rh_lfproximal_gazebo_ros_bumper_controller">
                <alwaysOn>true</alwaysOn>
                <frameName>rh_lfproximal</frameName>
                <updateRate>100.0</updateRate>
                <bumperTopicName>contacts/rh_lf/proximal</bumperTopicName>
            </plugin>
        </sensor>
        <selfCollide>true</selfCollide>
    </gazebo>
    <link name="rh_lfmiddle">
        <inertial>
            <origin rpy="0 0 0" xyz="0 0 0.0125"/>
            <mass value="0.017"/>
            <inertia ixx="0.0000026" ixy="0.0" ixz="0.0" iyy="0.0000027" iyz="0.0" izz="0.00000087"/>
        </inertial>
        <visual>
            <origin rpy="0 0 0" xyz="0 0 0"/>
            <geometry name="rh_lfmiddle_visual">
                <mesh filename="package://meshes/shadow_hand/hand/F2.dae" scale="0.001 0.001 0.001"/>
            </geometry>
            <material name="Grey"/>
        </visual>
        <collision>
            <origin rpy="0 0 0" xyz="0 0 0.0125"/>
            <geometry name="rh_lfmiddle_collision_geom">
                <cylinder length="0.025" radius="0.007"/>
            </geometry>
        </collision>
        <collision>
            <origin rpy="0 0 0" xyz="0 0 0.0"/>
            <geometry>
                <sphere radius="0.007"/>
            </geometry>
        </collision>
        <collision>
            <origin rpy="0 0 0" xyz="0 0 0.025"/>
            <geometry>
                <sphere radius="0.007"/>
            </geometry>
        </collision>
    </link>
    <joint name="rh_LFJ2" type="revolute">
        <parent link="rh_lfproximal"/>
        <child link="rh_lfmiddle"/>
        <origin rpy="0 0 0" xyz="0 0 0.045"/>
        <axis xyz="1 0 0"/>
        <limit effort="2" lower="0" upper="1.57079632679" velocity="2.0"/>
        <dynamics damping="0.1"/>
    </joint>
    <gazebo reference="rh_LFJ2">
        <provideFeedback>1</provideFeedback>
        <implicitSpringDamper>1</implicitSpringDamper>
    </gazebo>
    <transmission name="rh_lfmiddle_transmission">
        <type>sr_mechanism_model/J0Transmission</type>
        <actuator name="rh_LFJ0">
            <mechanicalReduction>1</mechanicalReduction>
        </actuator>
        <joint name="rh_LFJ1">
            <hardwareInterface>EffortJointInterface</hardwareInterface>
            <hardwareInterface>PositionJointInterface</hardwareInterface>
        </joint>
        <secondJoint name="rh_LFJ2"/>
    </transmission>
    <!-- prefix can be anything but usually is "r_" or  "l_" for right and left hands distinction -->
    <gazebo reference="rh_lfmiddle">
        <sensor name="rh_lfmiddle_contact" type="contact">
            <always_on>1</always_on>
            <update_rate>1000.0</update_rate>
            <contact>
                <collision>rh_lfmiddle_collision</collision>
                <topic>rh_lfmiddle_collision</topic>
            </contact>
            <plugin filename="libgazebo_ros_bumper.so" name="rh_lfproximal_gazebo_ros_bumper_controller">
                <alwaysOn>true</alwaysOn>
                <frameName>rh_lfmiddle</frameName>
                <updateRate>100.0</updateRate>
                <bumperTopicName>contacts/rh_lf/middle</bumperTopicName>
            </plugin>
        </sensor>
        <selfCollide>true</selfCollide>
    </gazebo>
    <!-- Distal  -->
    <link name="rh_lfdistal">
        <inertial>
            <mass value="0.012"/>
            <origin xyz="0 0 0.012"/>
            <inertia ixx="0.00000094" ixy="0.0" ixz="0.0" iyy="0.0000011" iyz="0.0" izz="0.00000053"/>
        </inertial>
        <visual>
            <origin rpy="0 0 0" xyz="0 0 0"/>
            <geometry name="rh_lfdistal_visual">
                <!-- Standard distal  -->
                <mesh filename="package://meshes/shadow_hand/hand/F1.dae" scale="0.001 0.001 0.001"/>
            </geometry>
            <material name="Grey"/>
        </visual>
        <collision>
            <origin rpy="0 0 0" xyz="0 0 0"/>
            <geometry name="rh_lfdistal_collision_geom">
                <!-- Standard distal  -->
                <mesh filename="package://meshes/shadow_hand/hand/F1.dae" scale="0.001 0.001 0.001"/>
            </geometry>
        </collision>
    </link>
    <joint name="rh_LFJ1" type="revolute">
        <parent link="rh_lfmiddle"/>
        <child link="rh_lfdistal"/>
        <origin rpy="0 0 0" xyz="0 0 0.025"/>
        <axis xyz="1 0 0"/>
        <!-- standard distal joint -->
        <limit effort="2" lower="0" upper="1.57079632679" velocity="2.0"/>
        <dynamics damping="0.1"/>
    </joint>
    <gazebo reference="rh_LFJ1">
        <provideFeedback>1</provideFeedback>
        <implicitSpringDamper>1</implicitSpringDamper>
    </gazebo>
    <link name="rh_lftip">
        <inertial>
            <mass value="0.001"/>
            <inertia ixx="0.0" ixy="0.0" ixz="0.0" iyy="0.0" iyz="0.0" izz="0.0"/>
        </inertial>
    </link>
    <joint name="rh_LFtip" type="fixed">
        <parent link="rh_lfdistal"/>
        <child link="rh_lftip"/>
        <origin rpy="0 0 0" xyz="0 0 0.026"/>
    </joint>
    <!-- prefix can be anything but usually is "r_" or  "l_" for right and left hands distinction -->
    <gazebo reference="rh_lfdistal">
        <sensor name="rh_lfdistal_contact" type="contact">
            <always_on>1</always_on>
            <update_rate>1000.0</update_rate>
            <contact>
                <collision>rh_lfdistal_collision</collision>
                <topic>rh_lfdistal_collision</topic>
            </contact>
            <plugin filename="libgazebo_ros_bumper.so" name="rh_lfdistal_gazebo_ros_bumper_controller">
                <alwaysOn>true</alwaysOn>
                <frameName>rh_lfdistal</frameName>
                <updateRate>100.0</updateRate>
                <bumperTopicName>contacts/rh_lf/distal</bumperTopicName>
            </plugin>
        </sensor>
        <mu1 value="500.0"/>
        <mu2 value="500.0"/>
        <kp value="10000000.0"/>
        <kd value="1.0"/>
        <selfCollide>true</selfCollide>
    </gazebo>
    <link name="rh_thbase">
        <inertial>
            <mass value="0.010"/>
            <origin rpy="0 0 0" xyz="0 0 0"/>
            <inertia ixx="0.00000016" ixy="0.0" ixz="0.0" iyy="0.00000016" iyz="0.0" izz="0.00000016"/>
        </inertial>
        <visual>
            <origin rpy="0 0 0" xyz="0 0 0"/>
            <geometry name="rh_thbase_visual">
                <box size="0.001 0.001 0.001"/>
            </geometry>
            <material name="shadow_thbase_material">
                <color rgba="0.5 0.5 0.5 1.0"/>
            </material>
        </visual>
        <collision>
            <origin rpy="0 0 0" xyz="0 0 0"/>
            <geometry name="rh_thbase_collision_geom">
                <sphere radius="0.011"/>
            </geometry>
        </collision>
    </link>
    <joint name="rh_THJ5" type="revolute">
        <parent link="rh_palm"/>
        <child link="rh_thbase"/>
        <origin rpy="0 0.785398163397 0.0" xyz="0.034 -0.0085 0.029"/>
        <axis xyz="0 0 -1.0"/>
        <limit effort="5.0" lower="-1.0471975512" upper="1.0471975512" velocity="4.0"/>
        <dynamics damping="0.2"/>
    </joint>
    <gazebo reference="rh_THJ5">
        <provideFeedback>1</provideFeedback>
        <implicitSpringDamper>1</implicitSpringDamper>
    </gazebo>
    <transmission name="rh_thbase_transmission">
        <type>sr_mechanism_model/SimpleTransmission</type>
        <actuator name="rh_THJ5">
            <mechanicalReduction>1</mechanicalReduction>
        </actuator>
        <joint name="rh_THJ5">
            <hardwareInterface>EffortJointInterface</hardwareInterface>
            <hardwareInterface>PositionJointInterface</hardwareInterface>
        </joint>
    </transmission>
    <!-- prefix can be anything but usually is "r_" or  "l_" for right and left hands distinction -->
    <gazebo reference="rh_thbase">
        <sensor name="rh_thbase_contact" type="contact">
            <always_on>1</always_on>
            <update_rate>1000.0</update_rate>
            <contact>
                <collision>rh_thbase_collision</collision>
                <topic>rh_thbase_collision</topic>
            </contact>
            <plugin filename="libgazebo_ros_bumper.so" name="rh_thbase_gazebo_ros_bumper_controller">
                <alwaysOn>true</alwaysOn>
                <frameName>rh_thbase</frameName>
                <updateRate>100.0</updateRate>
                <bumperTopicName>contacts/rh_th/base</bumperTopicName>
            </plugin>
        </sensor>
        <selfCollide>false</selfCollide>
    </gazebo>
    <link name="rh_thproximal">
        <inertial>
            <mass value="0.040"/>
            <origin rpy="0 0 0" xyz="0 0 0.019"/>
            <inertia ixx="0.0000136" ixy="0.0" ixz="0.0" iyy="0.0000136" iyz="0.0" izz="0.00000313"/>
        </inertial>
        <visual>
            <origin rpy="0 0 0" xyz="0 0 0"/>
            <geometry name="rh_thproximal_visual">
                <mesh filename="package://meshes/shadow_hand/hand/TH3_z.dae" scale="0.001 0.001 0.001"/>
            </geometry>
            <material name="shadow_thproximal_material">
                <color rgba="0.2 0.2 0.2 1.0"/>
            </material>
        </visual>
        <collision>
            <origin rpy="0 0 0" xyz="0 0 0.020"/>
            <geometry name="rh_thproximal_collision_geom">
                <cylinder length="0.018" radius="0.012"/>
            </geometry>
        </collision>
    </link>
    <joint name="rh_THJ4" type="revolute">
        <parent link="rh_thbase"/>
        <child link="rh_thproximal"/>
        <origin rpy="0 0 0" xyz="0 0 0"/>
        <axis xyz="1.0 0 0"/>
        <limit effort="3" lower="0.0" upper="1.2217304764" velocity="4.0"/>
        <dynamics damping="0.2"/>
    </joint>
    <gazebo reference="rh_THJ4">
        <provideFeedback>1</provideFeedback>
        <implicitSpringDamper>1</implicitSpringDamper>
    </gazebo>
    <transmission name="rh_thproximal_transmission">
        <type>sr_mechanism_model/SimpleTransmission</type>
        <actuator name="rh_THJ4">
            <mechanicalReduction>1</mechanicalReduction>
        </actuator>
        <joint name="rh_THJ4">
            <hardwareInterface>EffortJointInterface</hardwareInterface>
            <hardwareInterface>PositionJointInterface</hardwareInterface>
        </joint>
    </transmission>
    <!-- prefix can be anything but usually is "r_" or  "l_" for right and left hands distinction -->
    <gazebo reference="rh_thproximal">
        <sensor name="rh_thproximal_contact" type="contact">
            <always_on>1</always_on>
            <update_rate>1000.0</update_rate>
            <contact>
                <collision>rh_thproximal_collision</collision>
                <topic>rh_thproximal_collision</topic>
            </contact>
            <plugin filename="libgazebo_ros_bumper.so" name="rh_thproximal_gazebo_ros_bumper_controller">
                <alwaysOn>true</alwaysOn>
                <frameName>rh_thproximal</frameName>
                <updateRate>100.0</updateRate>
                <bumperTopicName>contacts/rh_th/proximal</bumperTopicName>
            </plugin>
        </sensor>
        <selfCollide>false</selfCollide>
    </gazebo>
    <link name="rh_thhub">
        <inertial>
            <mass value="0.005"/>
            <origin rpy="0 0 0" xyz="0 0 0"/>
            <inertia ixx="0.000001" ixy="0.0" ixz="0.0" iyy="0.000001" iyz="0.0" izz="0.0000003"/>
        </inertial>
        <visual>
            <origin rpy="0 0 0" xyz="0 0 0"/>
            <geometry name="rh_thhub_visual">
                <box size="0.001 0.001 0.001"/>
            </geometry>
            <material name="shadow_thhub_material">
                <color rgba="0.7 0.7 0.7 1.0"/>
            </material>
        </visual>
        <collision>
            <origin rpy="0 0 0" xyz="0 0 0"/>
            <geometry name="rh_thhub_collision_geom">
                <sphere radius="0.010"/>
            </geometry>
        </collision>
    </link>
    <joint name="rh_THJ3" type="revolute">
        <parent link="rh_thproximal"/>
        <child link="rh_thhub"/>
        <origin rpy="0 0 0" xyz="0 0 0.038"/>
        <axis xyz="1 0 0"/>
        <limit effort="2.0" lower="-0.209439510239" upper="0.209439510239" velocity="4.0"/>
        <dynamics damping="0.2"/>
    </joint>
    <gazebo reference="rh_THJ3">
        <provideFeedback>1</provideFeedback>
        <implicitSpringDamper>1</implicitSpringDamper>
    </gazebo>
    <transmission name="rh_thhub_transmission">
        <type>sr_mechanism_model/SimpleTransmission</type>
        <actuator name="rh_THJ3">
            <mechanicalReduction>1</mechanicalReduction>
        </actuator>
        <joint name="rh_THJ3">
            <hardwareInterface>EffortJointInterface</hardwareInterface>
            <hardwareInterface>PositionJointInterface</hardwareInterface>
        </joint>
    </transmission>
    <!-- prefix can be anything but usually is "r_" or  "l_" for right and left hands distinction -->
    <gazebo reference="rh_thhub">
        <sensor name="rh_thhub_contact" type="contact">
            <always_on>1</always_on>
            <update_rate>1000.0</update_rate>
            <contact>
                <collision>rh_thhub_collision</collision>
                <topic>rh_thhub_collision</topic>
            </contact>
            <plugin filename="libgazebo_ros_bumper.so" name="rh_thhub_gazebo_ros_bumper_controller">
                <alwaysOn>true</alwaysOn>
                <frameName>rh_thhub</frameName>
                <updateRate>100.0</updateRate>
                <bumperTopicName>contacts/rh_th/hub</bumperTopicName>
            </plugin>
        </sensor>
        <selfCollide>true</selfCollide>
    </gazebo>
    <link name="rh_thmiddle">
        <inertial>
            <mass value="0.020"/>
            <origin rpy="0 0 0" xyz="0 0 0.016"/>
            <inertia ixx="0.0000051" ixy="0.0" ixz="0.0" iyy="0.0000051" iyz="0.0" izz="0.00000121"/>
        </inertial>
        <visual>
            <origin rpy="0 0 0" xyz="0 0 0"/>
            <geometry name="rh_thmiddle_visual">
                <mesh filename="package://meshes/shadow_hand/hand/TH2_z.dae" scale="0.001 0.001 0.001"/>
            </geometry>
            <material name="shadow_thmiddle_material">
                <color rgba="0.2 0.2 0.2 1.0"/>
            </material>
        </visual>
        <collision>
            <origin rpy="0 0 0" xyz="0 0 0.012"/>
            <geometry name="rh_thmiddle_collision_geom">
                <cylinder length="0.018" radius="0.011"/>
            </geometry>
        </collision>
        <collision>
            <origin rpy="0 0 0" xyz="0 0 0.019"/>
            <geometry>
                <sphere radius="0.011"/>
            </geometry>
        </collision>
    </link>
    <joint name="rh_THJ2" type="revolute">
        <parent link="rh_thhub"/>
        <child link="rh_thmiddle"/>
        <origin rpy="0 0 0" xyz="0 0 0"/>
        <axis xyz="0 -1 0"/>
        <limit effort="2.0" lower="-0.698131700798" upper="0.698131700798" velocity="2.0"/>
        <dynamics damping="0.1"/>
    </joint>
    <gazebo reference="rh_THJ2">
        <provideFeedback>1</provideFeedback>
        <implicitSpringDamper>1</implicitSpringDamper>
    </gazebo>
    <transmission name="rh_thmiddle_transmission">
        <type>sr_mechanism_model/SimpleTransmission</type>
        <actuator name="rh_THJ2">
            <mechanicalReduction>1</mechanicalReduction>
        </actuator>
        <joint name="rh_THJ2">
            <hardwareInterface>EffortJointInterface</hardwareInterface>
            <hardwareInterface>PositionJointInterface</hardwareInterface>
        </joint>
    </transmission>
    <!-- prefix can be anything but usually is "r_" or  "l_" for right and left hands distinction -->
    <gazebo reference="rh_thmiddle">
        <sensor name="rh_thmiddle_contact" type="contact">
            <always_on>1</always_on>
            <update_rate>1000.0</update_rate>
            <contact>
                <collision>rh_thmiddle_collision</collision>
                <topic>rh_thmiddle_collision</topic>
            </contact>
            <plugin filename="libgazebo_ros_bumper.so" name="rh_thmiddle_gazebo_ros_bumper_controller">
                <alwaysOn>true</alwaysOn>
                <frameName>rh_thmiddle</frameName>
                <updateRate>100.0</updateRate>
                <bumperTopicName>contacts/rh_th/middle</bumperTopicName>
            </plugin>
        </sensor>
        <selfCollide>true</selfCollide>
    </gazebo>
    <!-- common -->
    <link name="rh_thdistal">
        <inertial>
            <mass value="0.016"/>
            <origin rpy="0 0 0" xyz="0 0 0.01375"/>
            <inertia ixx="0.0000021" ixy="0.0" ixz="0.0" iyy="0.0000022" iyz="0.0" izz="0.000001"/>
        </inertial>
        <visual>
            <origin rpy="0 0 0" xyz="0 0 0"/>
            <geometry name="rh_thdistal_visual">
                <!-- Standard distal  -->
                <mesh filename="package://meshes/shadow_hand/hand/TH1_z.dae" scale="0.001 0.001 0.001"/>
            </geometry>
            <material name="shadow_thmiddle_material">
                <color rgba="0.2 0.2 0.2 1.0"/>
            </material>
        </visual>
        <collision>
            <origin rpy="0 0 0" xyz="0 0 0"/>
            <geometry name="rh_thmiddle_collision_geom">
                <!-- Standard distal  -->
                <mesh filename="package://meshes/shadow_hand/hand/TH1_z.dae" scale="0.001 0.001 0.001"/>
                <!--      <box size="0.015 0.015 0.015" /> -->
            </geometry>
        </collision>
    </link>
    <joint name="rh_THJ1" type="revolute">
        <parent link="rh_thmiddle"/>
        <child link="rh_thdistal"/>
        <origin rpy="0 0 -1.57079632679" xyz="0 0 0.032"/>
        <axis xyz="1 0 0"/>
        <limit effort="1.0" lower="0" upper="1.57079632679" velocity="4.0"/>
        <dynamics damping="0.2"/>
    </joint>
    <gazebo reference="rh_THJ1">
        <provideFeedback>1</provideFeedback>
        <implicitSpringDamper>1</implicitSpringDamper>
    </gazebo>
    <link name="rh_thtip">
        <inertial>
            <mass value="0.001"/>
            <inertia ixx="0.0" ixy="0.0" ixz="0.0" iyy="0.0" iyz="0.0" izz="0.0"/>
        </inertial>
    </link>
    <joint name="rh_thtip" type="fixed">
        <parent link="rh_thdistal"/>
        <child link="rh_thtip"/>
        <origin rpy="0 0 0" xyz="0 0 0.0275"/>
    </joint>
    <!-- prefix can be anything but usually is "r_" or  "l_" for right and left hands distinction -->
    <gazebo reference="rh_thdistal">
        <sensor name="rh_thdistal_contact" type="contact">
            <always_on>1</always_on>
            <update_rate>1000.0</update_rate>
            <contact>
                <collision>rh_thdistal_collision</collision>
                <topic>rh_thdistal_collision</topic>
            </contact>
            <plugin filename="libgazebo_ros_bumper.so" name="rh_thdistal_gazebo_ros_bumper_controller">
                <alwaysOn>true</alwaysOn>
                <frameName>rh_thdistal</frameName>
                <updateRate>100.0</updateRate>
                <bumperTopicName>contacts/rh_th/distal</bumperTopicName>
            </plugin>
        </sensor>
        <mu1 value="500.0"/>
        <mu2 value="500.0"/>
        <kp value="10000000.0"/>
        <kd value="1.0"/>
        <selfCollide>true</selfCollide>
    </gazebo>
    <transmission name="rh_thdistal_transmission">
        <type>sr_mechanism_model/SimpleTransmission</type>
        <actuator name="rh_THJ1">
            <mechanicalReduction>1</mechanicalReduction>
        </actuator>
        <joint name="rh_THJ1">
            <hardwareInterface>EffortJointInterface</hardwareInterface>
            <hardwareInterface>PositionJointInterface</hardwareInterface>
        </joint>
    </transmission>
</robot>
